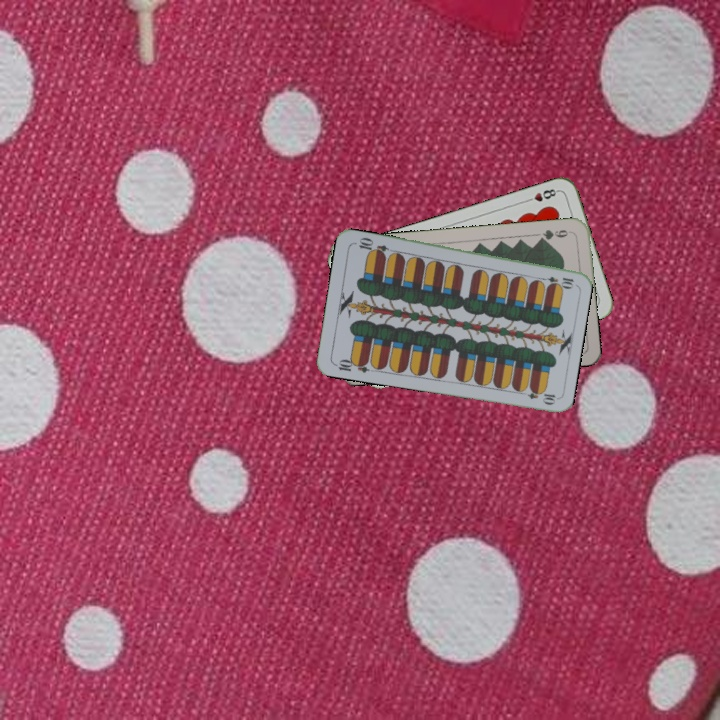E10: (331, 355, 371, 375), (535, 272, 577, 289)
G9: (534, 225, 574, 243)
H8: (522, 185, 561, 205)
